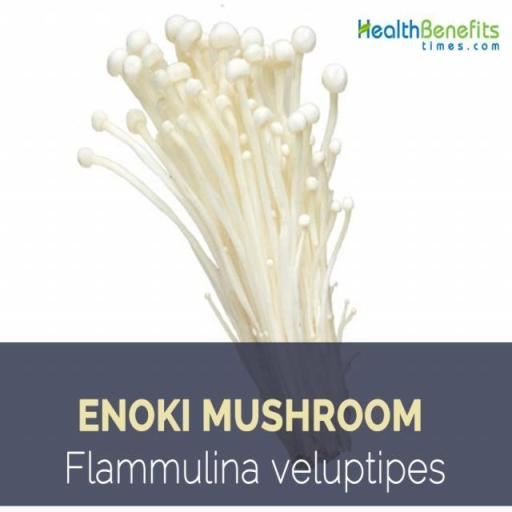Enoki Mushroom: (76, 16, 359, 343)
